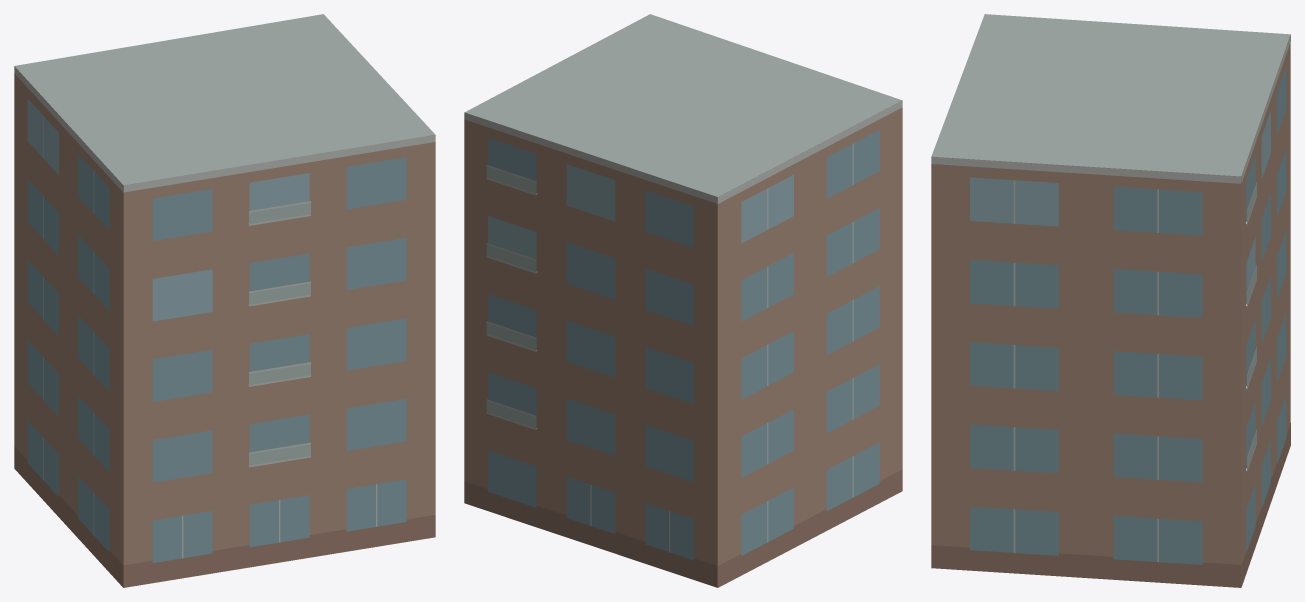
The model's file is survey-upis-32901885.glb.
3 renders of one model, left to right at view 1: azimuth 30°, elevation 25°; view 2: azimuth 150°, elevation 25°; view 3: azimuth 270°, elevation 25°, orthographic. The views are drawn at different scales.
Visible parts, largest first — view 1: survey-upis-32901885.tmp; view 2: survey-upis-32901885.tmp; view 3: survey-upis-32901885.tmp.
Boxes of the visible parts, box(x1,y1,x2,y2) form: survey-upis-32901885.tmp: box(14, 14, 435, 587); survey-upis-32901885.tmp: box(464, 14, 902, 587); survey-upis-32901885.tmp: box(931, 14, 1290, 587).
Bounding box in the file's own units: 11.61 × 13.7 × 10.86.
